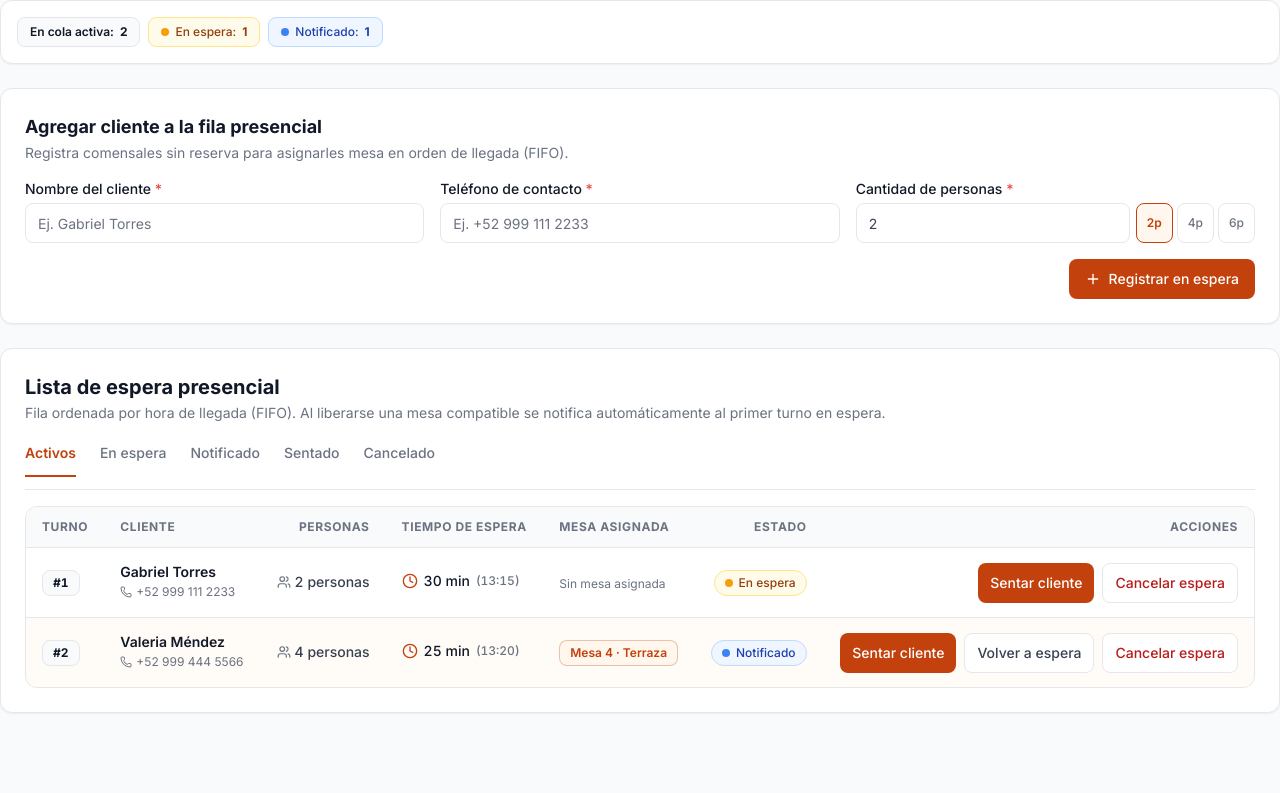
FE-010 · Vista de Lista de Espera Presencial y Alertas de Mesa Compatible (ListaEsperaView) › 2. Formulario rápido para registrar cliente en espera (RF-021) › registra un nuevo cliente mediante POST /sala/espera, limpia el formulario y actualiza la cola
Check: the table named "Cola de lista de espera" is shown, box [26,507,1254,687]
Type "Roberto Gómez" into the field labelled "Nombre del cliente *" at point(225, 223), box [25,203,424,243]
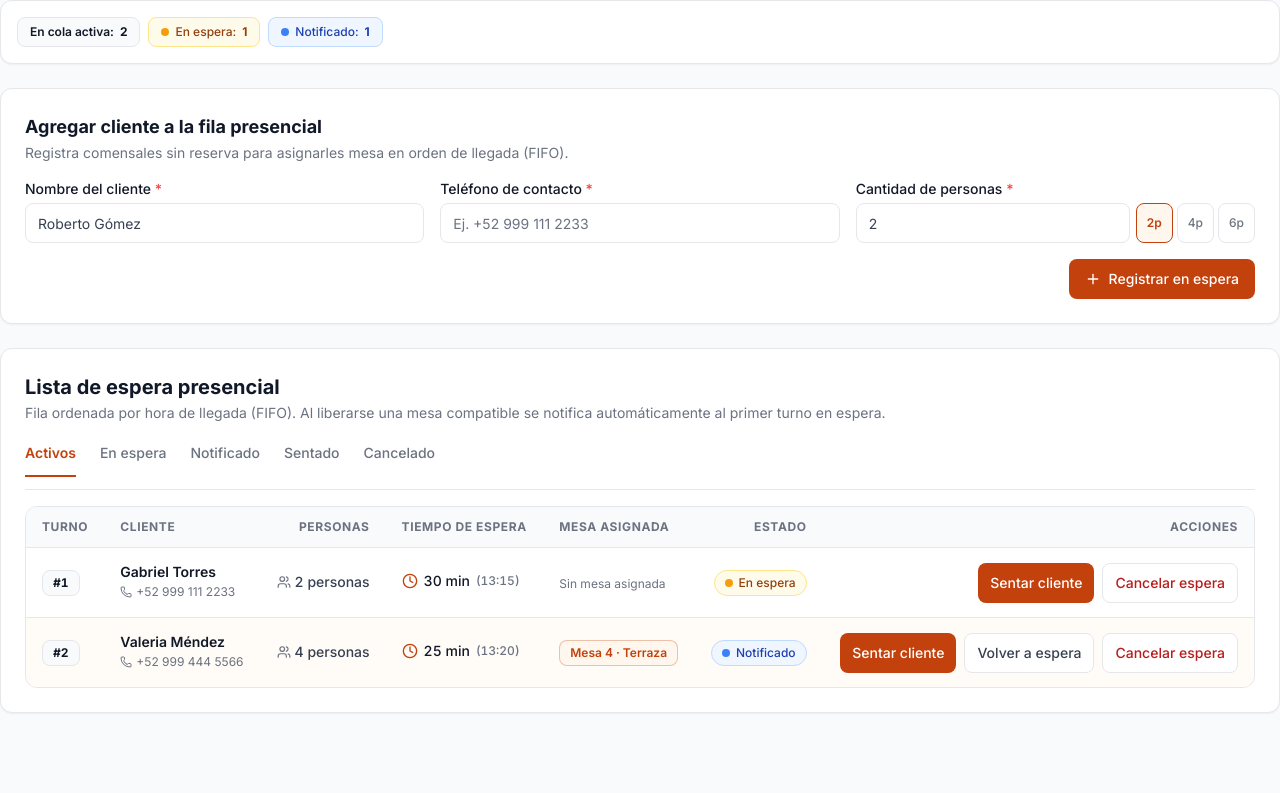
Type "+52 999 888 7766" into the field labelled "Teléfono de contacto *" at point(640, 223), box [440,203,840,243]
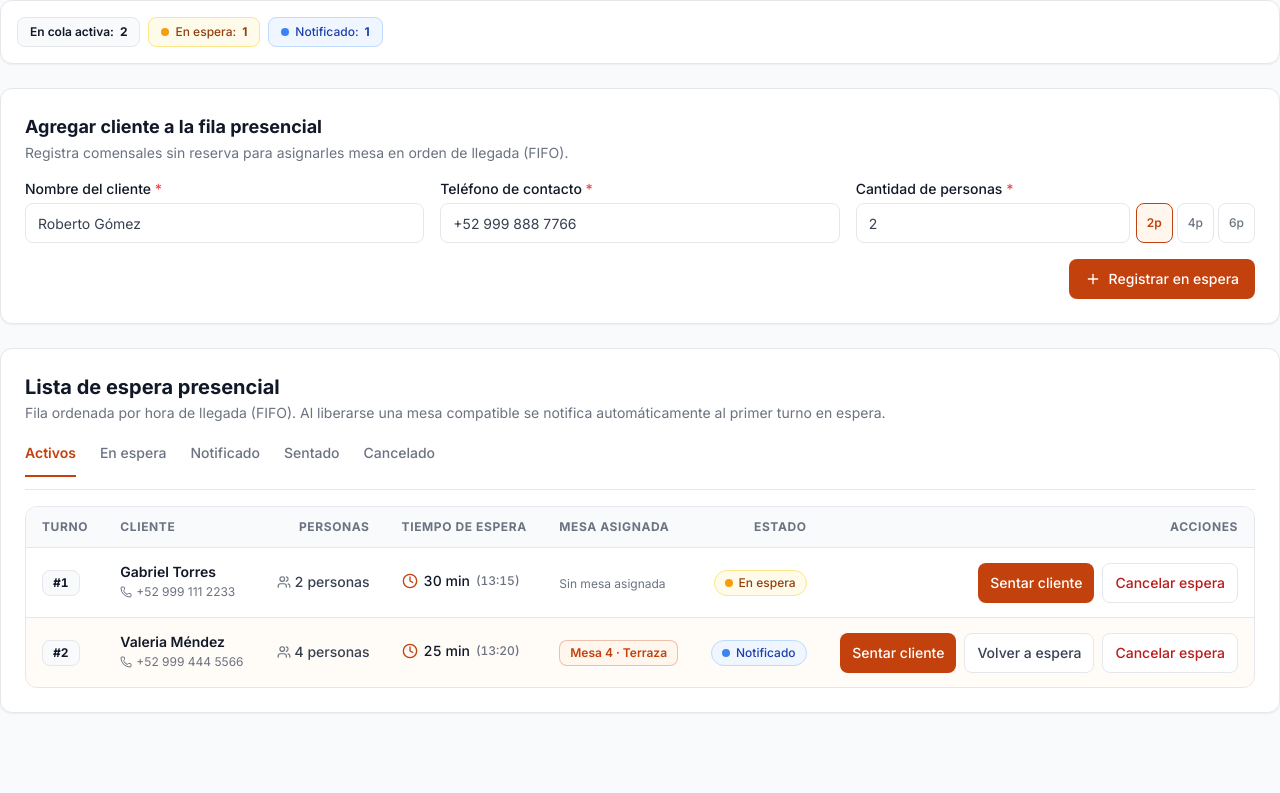
Click the button "4p" at point(1195, 223), box [1177,203,1214,243]
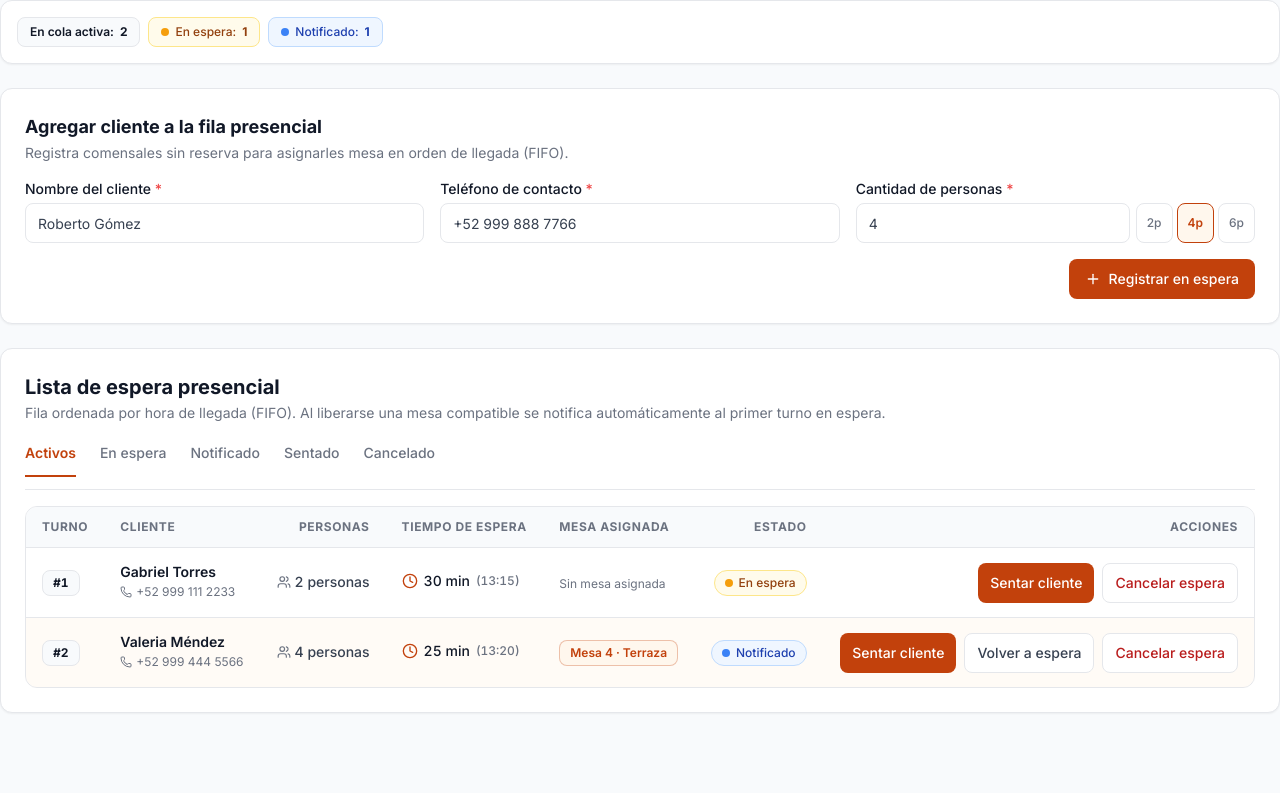
Check: the number field labelled "Cantidad de personas *" holds "4", box [856,203,1130,243]
Click the button "Registrar en espera" at point(1162, 279), box [1069,259,1255,299]
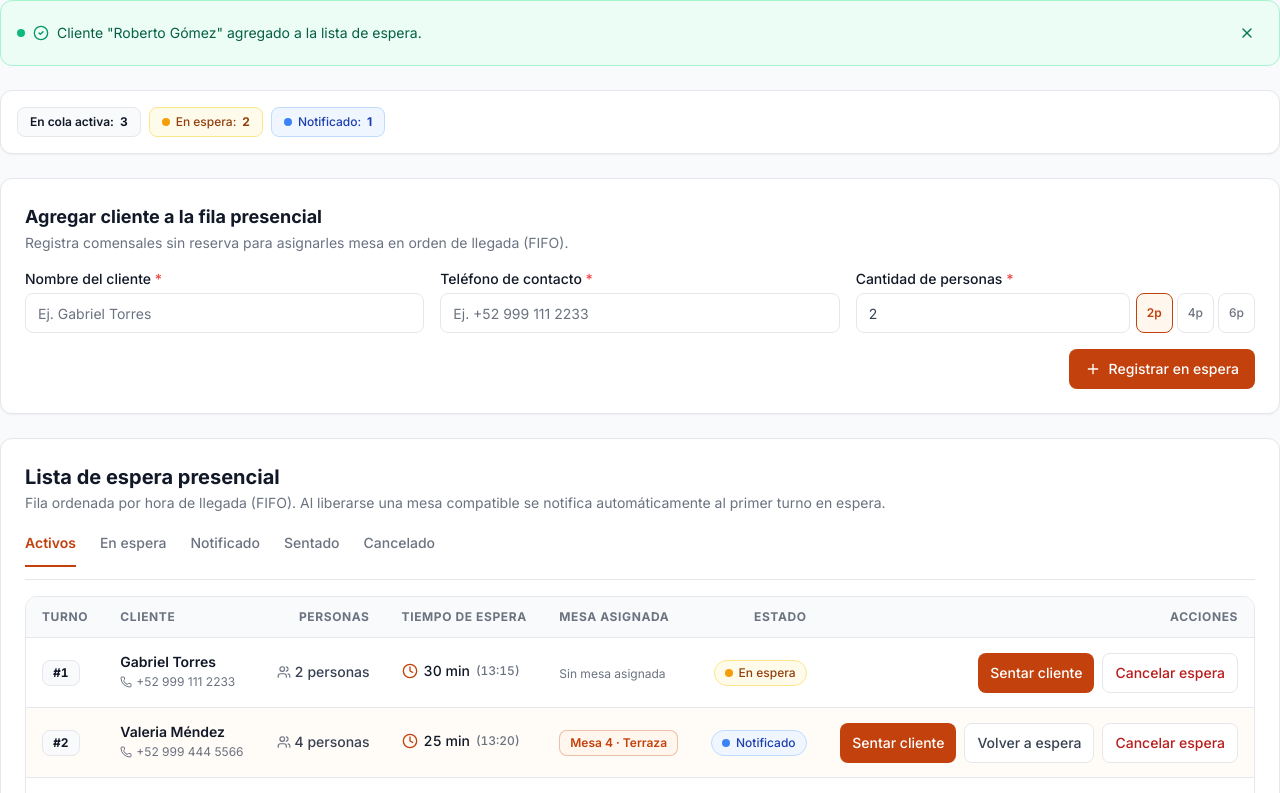
Check: the message with test id "espera-notice-banner" reads "Cliente \"Roberto Gómez\" agregado a la lista de espera.", box [57,24,422,41]
Check: the field labelled "Nombre del cliente *" is empty, box [25,293,424,333]
Check: the field labelled "Teléfono de contacto *" is empty, box [440,293,840,333]
